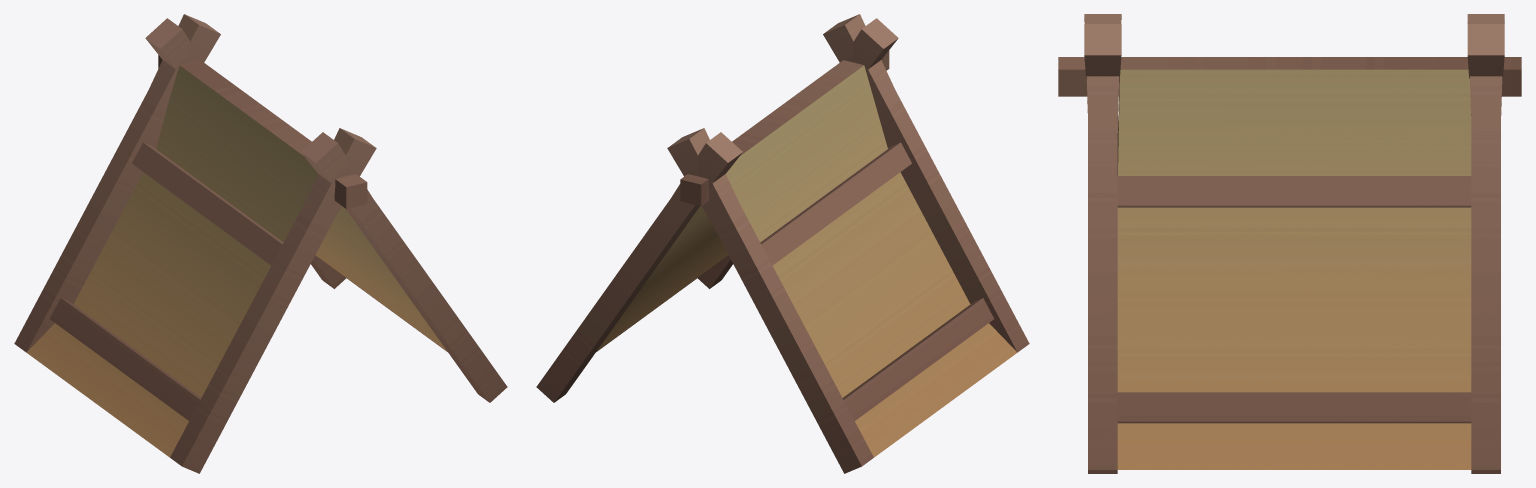
Rendered from tent_canvas.glb.
3 views of the same model, side by side, from view 1: azimuth 30°, elevation 25°; view 2: azimuth 150°, elevation 25°; view 3: azimuth 270°, elevation 25° (orthographic). The views are drawn at different scales.
Parts seen in each view (by area): view 1: tent-canvas; view 2: tent-canvas; view 3: tent-canvas.
Part boxes in pixels (<box>): tent-canvas: <box>14,14,507,473</box>; tent-canvas: <box>536,14,1029,473</box>; tent-canvas: <box>1058,14,1521,473</box>.
Size of the model in its own units: 1.49 by 1.3 by 1.49.
Materials: 1 (1 with a texture image).
